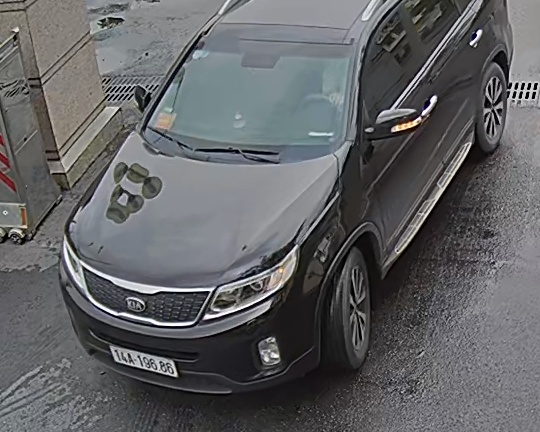vehicle plate: (107, 344, 182, 382)
